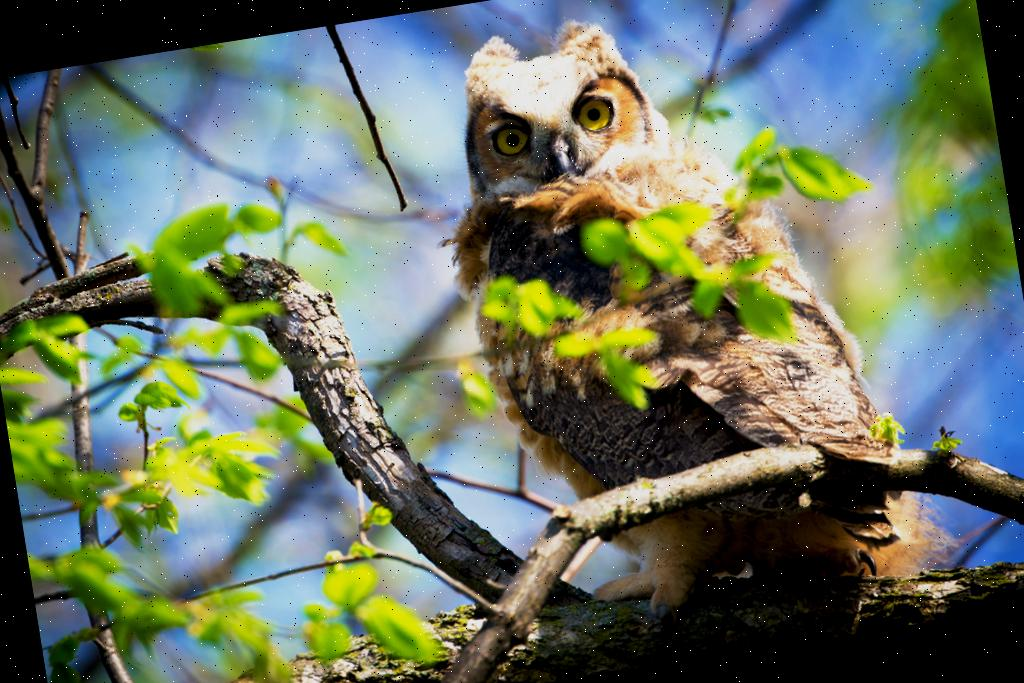Owl: (416, 0, 967, 658)
